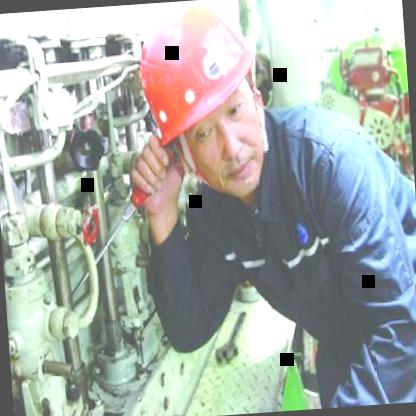helmet: (124, 0, 278, 204)
